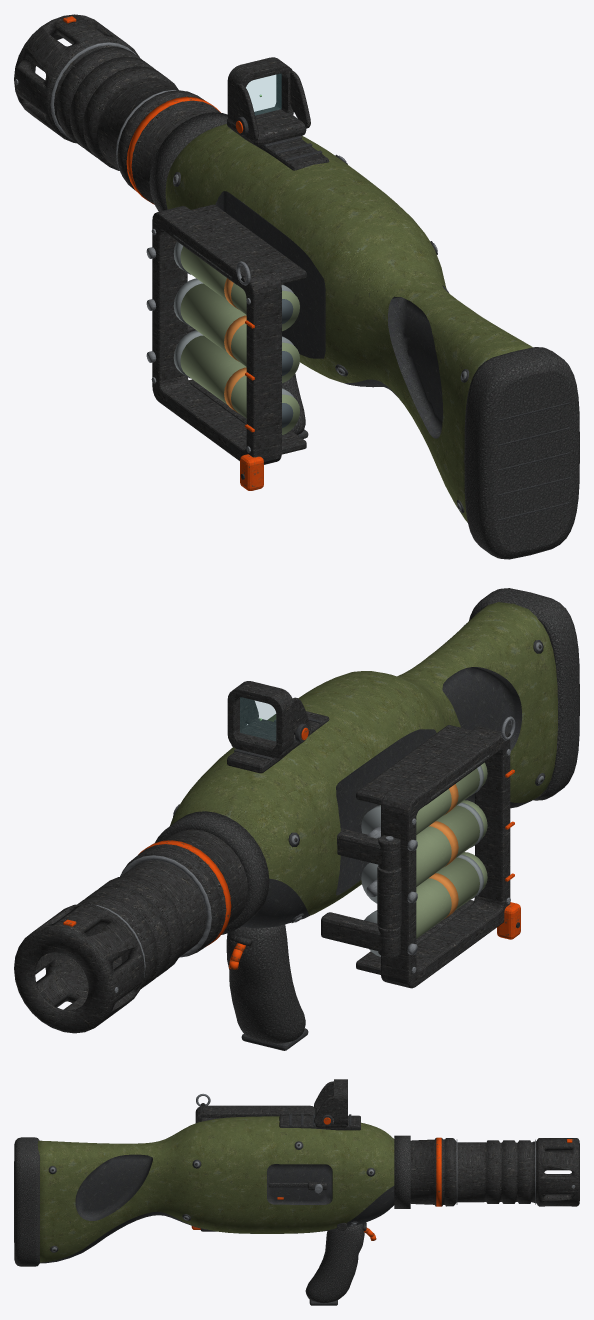
Rendered from skipjack.glb.
The picture shows the model from 3 angles, top to bottom: view 1: azimuth 30°, elevation 25°; view 2: azimuth 150°, elevation 25°; view 3: azimuth 270°, elevation 25°; orthographic projection. The views are drawn at different scales.
Parts seen in each view (by area): view 1: body | olive drab, body | rubber, body | gunmetal, mag | gunmetal, body | dark polymer, mag | round 3, mag | round 2, mag | round 1, body | optic glass, body | machined steel, body | orange paint, mag | orange paint; view 2: body | olive drab, body | gunmetal, mag | gunmetal, body | rubber, body | dark polymer, mag | round 2, mag | round 3, mag | round 1, body | machined steel, body | optic glass, body | orange paint, mag | machined steel (+1 smaller); view 3: body | olive drab, body | gunmetal, body | dark polymer, body | rubber, mag | gunmetal, body | orange paint, body | machined steel.
Boxes of the visible parts, <box> form: body | olive drab: <box>165,124,532,522</box>; body | rubber: <box>149,112,579,559</box>; body | gunmetal: <box>14,14,329,333</box>; mag | gunmetal: <box>152,204,306,479</box>; body | dark polymer: <box>166,116,569,520</box>; mag | round 3: <box>173,330,299,434</box>; mag | round 2: <box>173,278,299,383</box>; mag | round 1: <box>173,241,299,331</box>; body | optic glass: <box>246,74,281,115</box>; body | machined steel: <box>14,42,466,510</box>; body | orange paint: <box>63,16,243,204</box>; mag | orange paint: <box>240,320,263,490</box>; body | olive drab: <box>170,602,557,915</box>; body | gunmetal: <box>14,681,400,1033</box>; mag | gunmetal: <box>356,725,519,988</box>; body | rubber: <box>155,588,579,1043</box>; body | dark polymer: <box>173,623,545,1050</box>; mag | round 2: <box>361,800,487,903</box>; mag | round 3: <box>364,852,487,956</box>; mag | round 1: <box>361,762,487,834</box>; body | machined steel: <box>88,624,544,992</box>; body | optic glass: <box>240,697,275,740</box>; body | orange paint: <box>63,727,308,946</box>; mag | machined steel: <box>366,716,515,973</box>; body | olive drab: <box>37,1116,394,1262</box>; body | gunmetal: <box>279,1079,579,1206</box>; body | dark polymer: <box>14,1114,394,1305</box>; body | rubber: <box>14,1135,410,1303</box>; mag | gunmetal: <box>195,1103,315,1231</box>; body | orange paint: <box>323,1117,572,1206</box>; body | machined steel: <box>50,1139,575,1251</box>.
Size of the model in its own units: 0.2754 by 0.4365 by 1.04.
9 materials, 7 textured.
